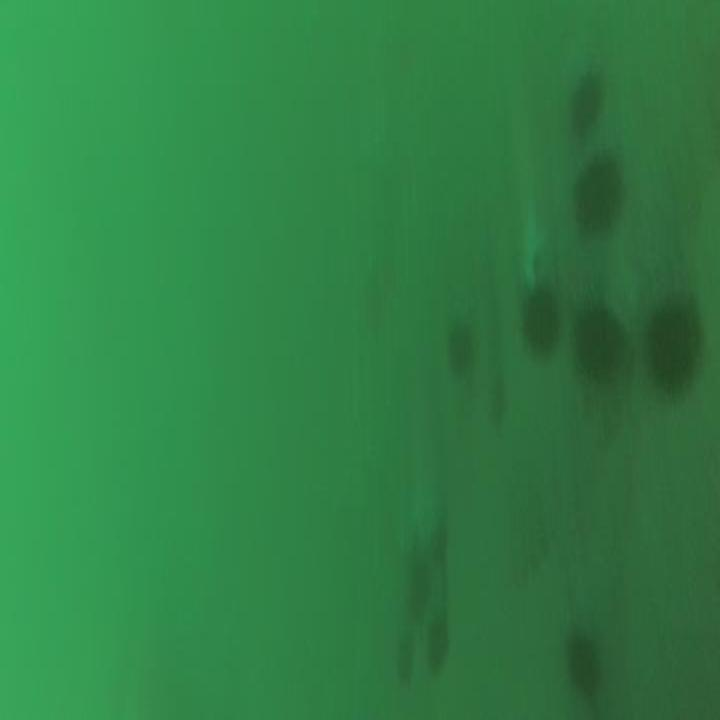echinus: (643, 279, 703, 402), (565, 153, 630, 249), (569, 286, 626, 391), (561, 71, 612, 139), (564, 624, 606, 706), (519, 283, 563, 357), (442, 314, 480, 386)
starfish: (514, 204, 549, 284)
